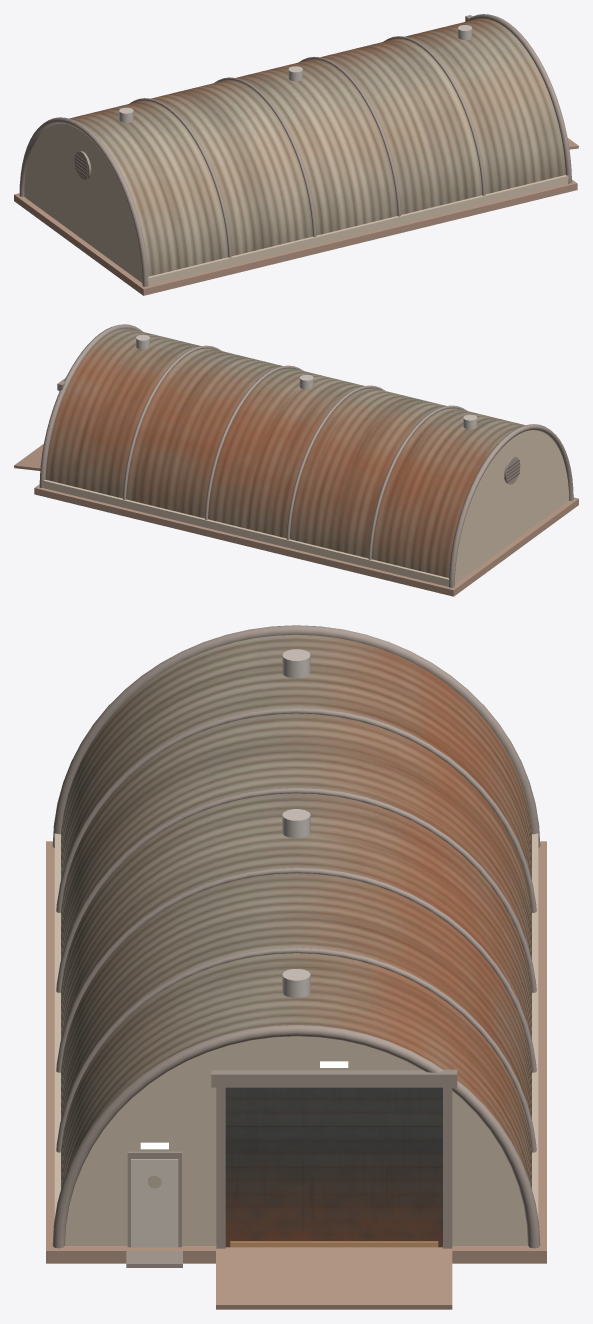
File: I04_arched_hall_5seg.glb
3 views of the same model, one above another, from view 1: azimuth 30°, elevation 25°; view 2: azimuth 150°, elevation 25°; view 3: azimuth 270°, elevation 25° (orthographic). The views are drawn at different scales.
Parts seen in each view (by area): view 1: vault, gable_wall, segment_rib, foundation, base_beam, roof_vent; view 2: vault, gable_wall, segment_rib, foundation, base_beam, roof_vent; view 3: vault, segment_rib, large_door, gable_wall, foundation, base_beam, roof_vent.
Boxes of the visible parts, x1,y1,x2,y2 form: vault: [69, 18, 565, 276]; gable_wall: [24, 123, 142, 282]; segment_rib: [19, 14, 571, 286]; foundation: [14, 138, 578, 295]; base_beam: [75, 154, 568, 285]; roof_vent: [119, 25, 472, 122]; vault: [45, 328, 524, 577]; gable_wall: [455, 430, 568, 583]; segment_rib: [39, 324, 573, 587]; foundation: [14, 444, 578, 596]; base_beam: [42, 460, 519, 586]; roof_vent: [136, 334, 477, 429]; vault: [61, 634, 531, 1188]; segment_rib: [52, 625, 540, 1267]; large_door: [225, 1087, 442, 1247]; gable_wall: [65, 1036, 527, 1245]; foundation: [46, 841, 546, 1309]; base_beam: [54, 833, 538, 1247]; roof_vent: [282, 649, 310, 997].
Size of the model in its own units: 22.65 by 5.78 by 10.6.
9 materials, 2 textured.
